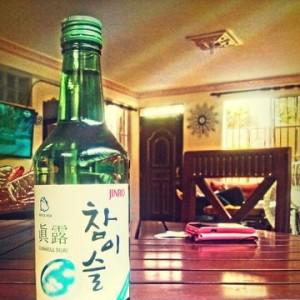soju: (30, 12, 134, 300)
